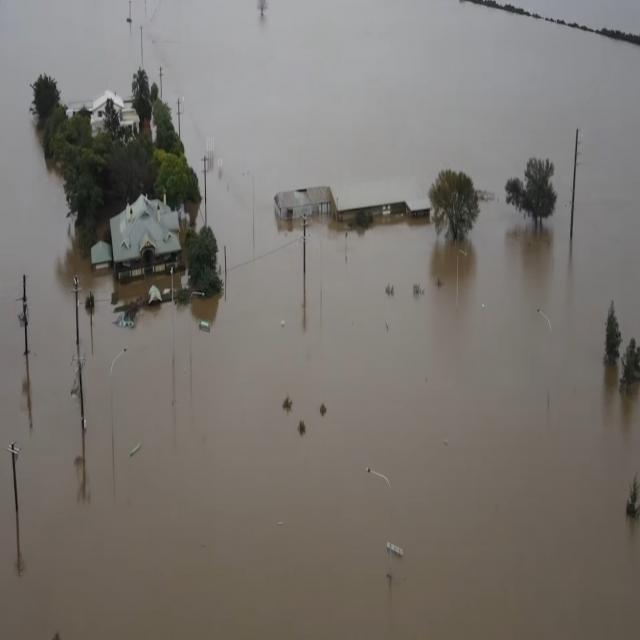flood: (0, 0, 640, 639)
house: (100, 188, 182, 280), (90, 84, 140, 149)
